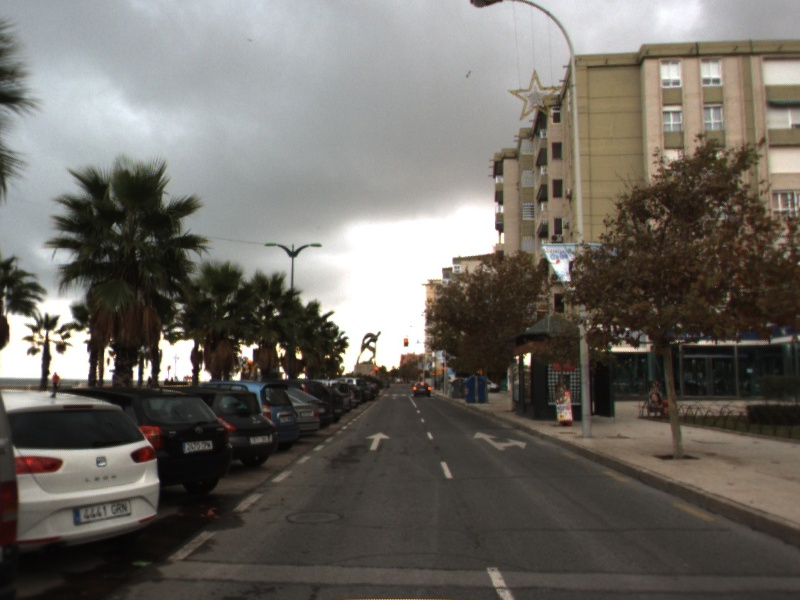STRAIGHT: (364, 430, 392, 452)
STRAIGHT_RIGHT: (472, 430, 528, 452)
